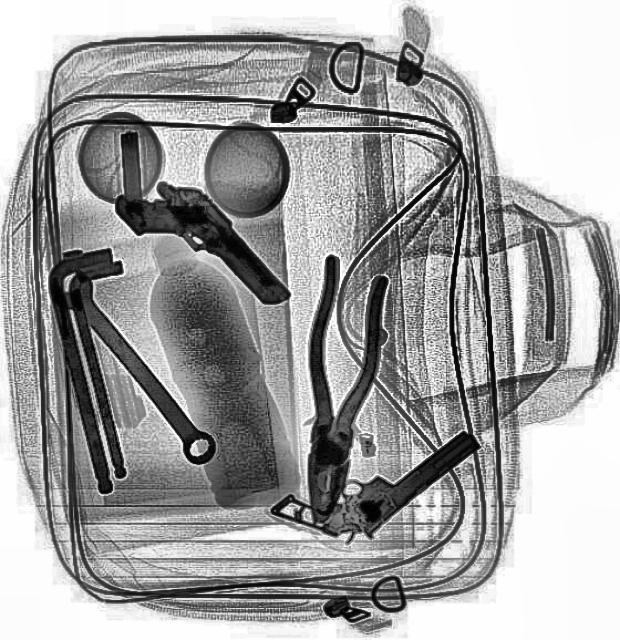Gun: (270, 429, 480, 543), (117, 178, 291, 302)
Pliers: (282, 252, 392, 524)
Wrench: (39, 256, 224, 474)
